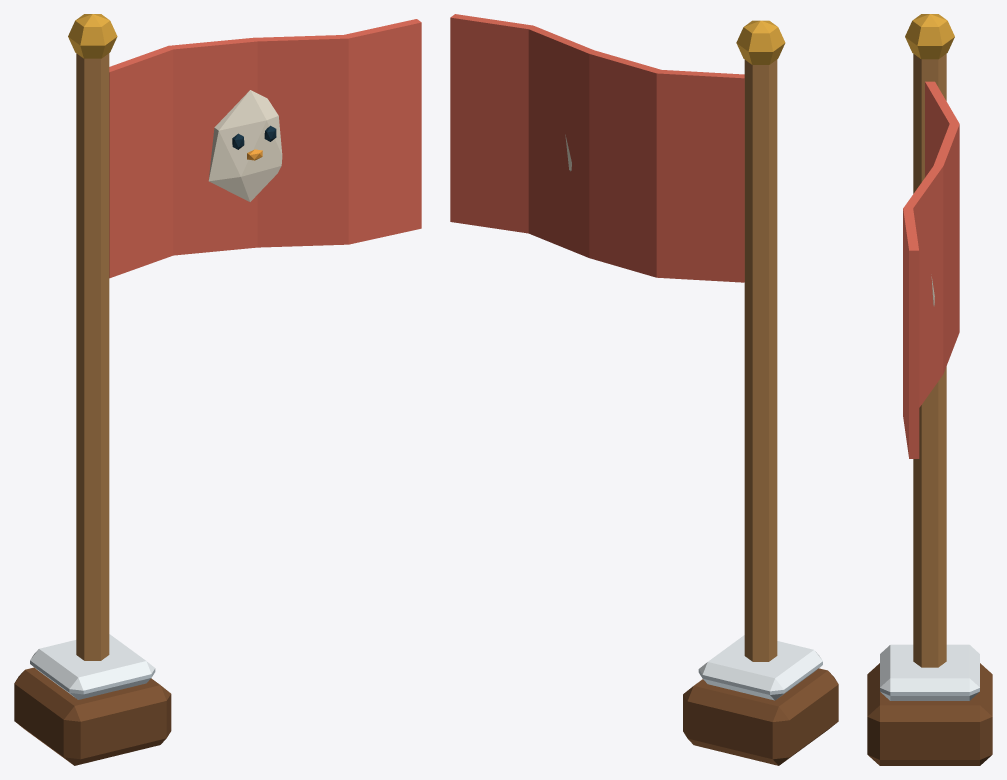
Rendered from team_flag.glb.
The picture shows the model from 3 angles, left to right: view 1: azimuth 30°, elevation 25°; view 2: azimuth 150°, elevation 25°; view 3: azimuth 270°, elevation 25°; orthographic projection.
Visible parts, largest first — view 1: part_cloth, team_flag; view 2: part_cloth, team_flag; view 3: team_flag, part_cloth.
Boxes of the visible parts, x1,y1,x2,y2 form: part_cloth: [109, 19, 421, 278]; team_flag: [14, 14, 171, 765]; part_cloth: [450, 14, 744, 282]; team_flag: [683, 20, 838, 765]; team_flag: [867, 14, 992, 765]; part_cloth: [903, 81, 959, 458].
Size of the model in its own units: 1.04 by 1.93 by 0.3.
